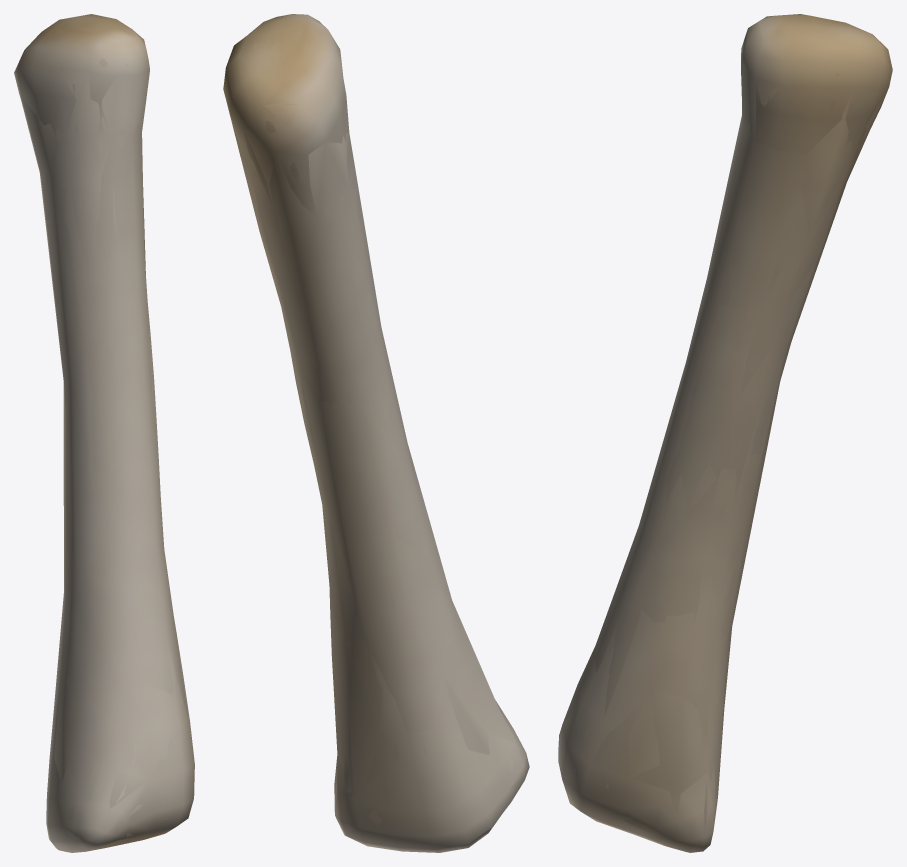
The model's file is L metatarsi tertium.fbx.
The picture shows the model from 3 angles, left to right: view 1: azimuth 30°, elevation 25°; view 2: azimuth 150°, elevation 25°; view 3: azimuth 270°, elevation 25°; orthographic projection. The views are drawn at different scales.
Parts seen in each view (by area): view 1: L metatarsi tertium low, L metatarsi tertium, L metatarsi tertium high; view 2: L metatarsi tertium low, L metatarsi tertium, L metatarsi tertium high; view 3: L metatarsi tertium, L metatarsi tertium low, L metatarsi tertium high.
Boxes of the visible parts, bbox=[...] form: L metatarsi tertium low: bbox=[15, 17, 187, 850]; L metatarsi tertium: bbox=[14, 14, 194, 852]; L metatarsi tertium high: bbox=[39, 17, 188, 846]; L metatarsi tertium low: bbox=[224, 15, 524, 848]; L metatarsi tertium: bbox=[223, 14, 529, 852]; L metatarsi tertium high: bbox=[236, 18, 513, 846]; L metatarsi tertium: bbox=[558, 14, 892, 852]; L metatarsi tertium low: bbox=[562, 16, 889, 851]; L metatarsi tertium high: bbox=[559, 22, 866, 845].
Bounding box in the file's own units: 1.32 × 5.99 × 2.15.
